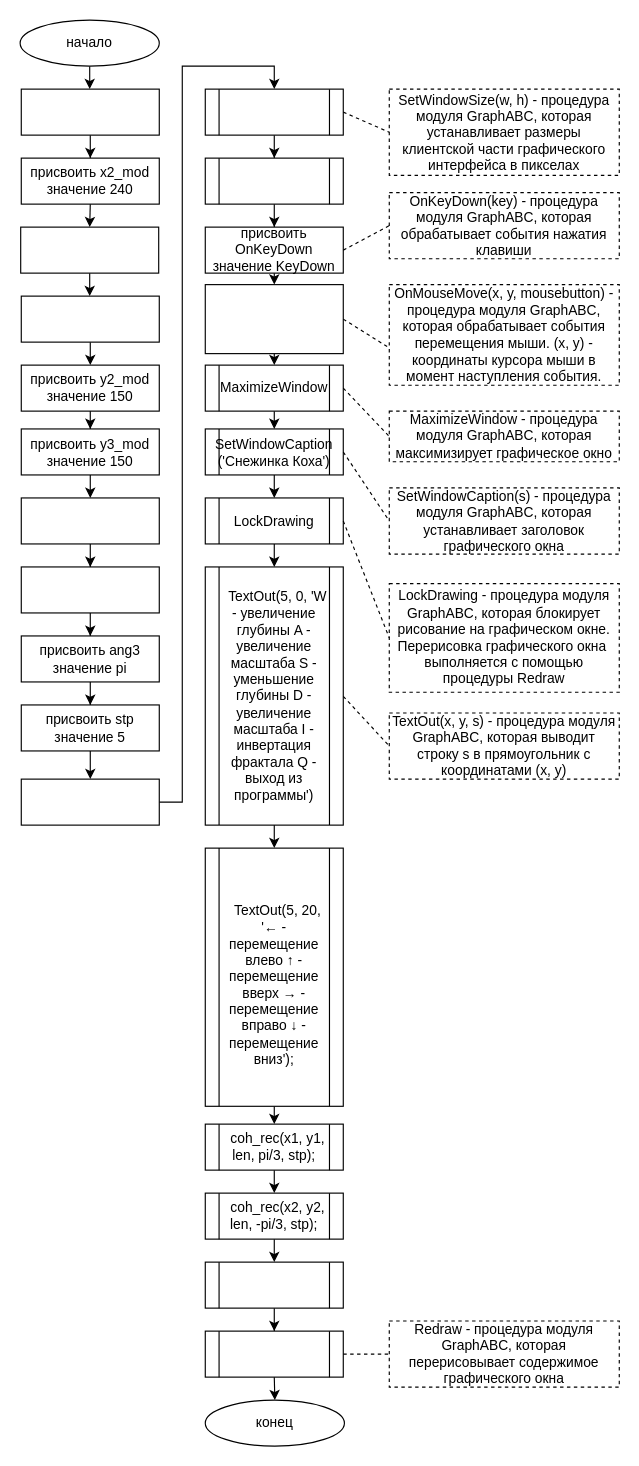
Some shapes in this 639 by 1466 pixel diagram are drawn without their labels. Each missing label, with the box of its shape:
coh_rec(x3, y3, len, pi, stp): (204, 1261, 343, 1308)
CoordNormalize: (204, 157, 343, 204)
Redraw: (204, 1330, 343, 1377)
SetWinowSize (1920, 1200): (204, 88, 343, 135)
присвоить ang1 значение pi/3: (20, 497, 159, 544)
присвоить ang2 значение -pi/3: (20, 566, 159, 613)
присвоить len значение 300: (20, 778, 159, 825)
присвоить OnMouseMove значение MouseMove: (204, 283, 343, 354)
присвоить x1_mod значение 240: (20, 88, 159, 135)
присвоить x3_mod значение 240: (20, 226, 159, 273)
присвоить y1_mod значение 150: (20, 295, 159, 342)
